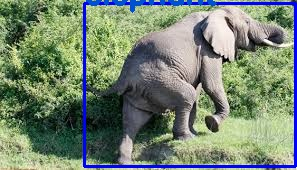elephant: (83, 2, 295, 166)
